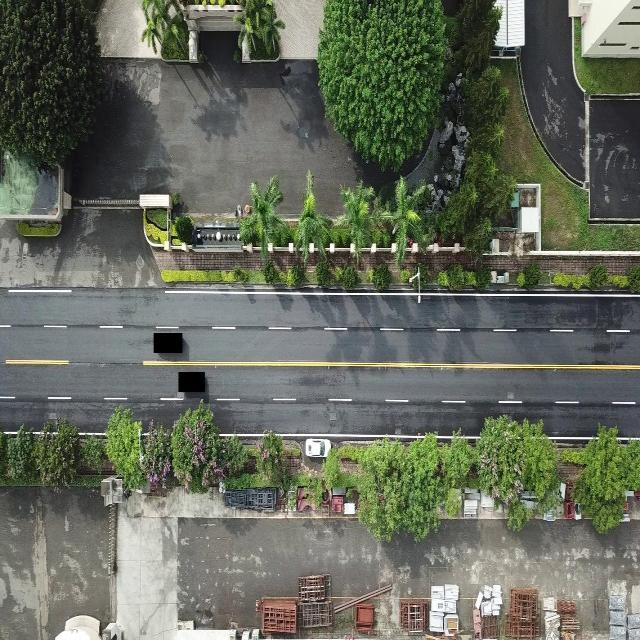car: (303, 434, 330, 462)
